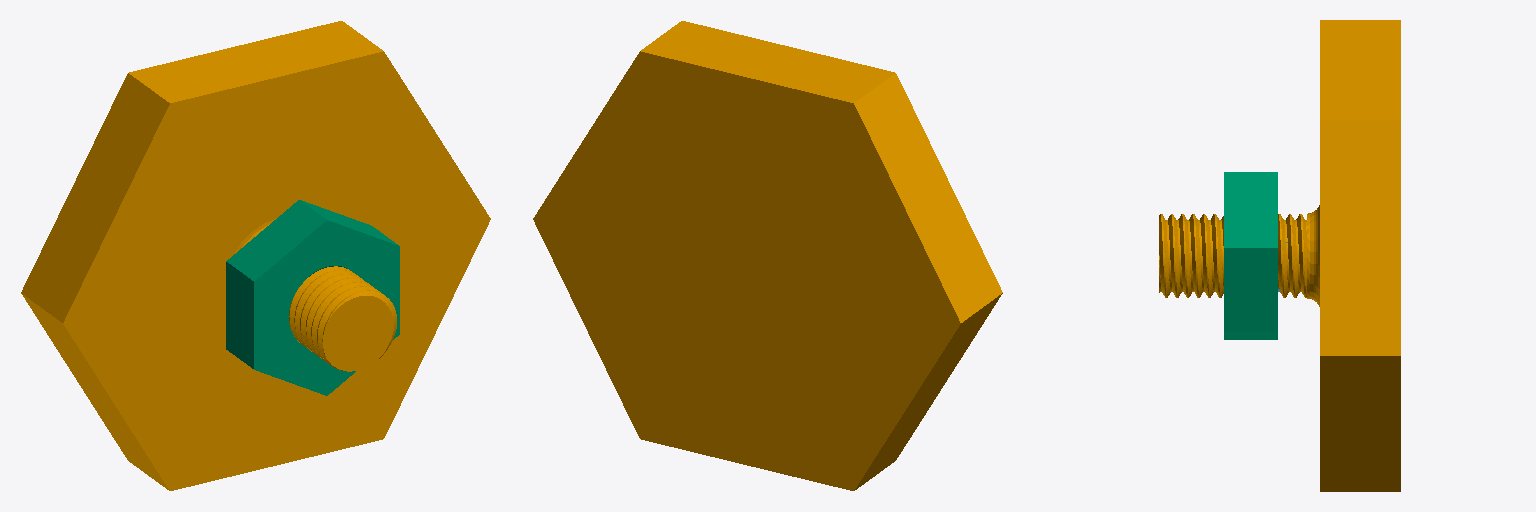
URDF robot description (M14):
<?xml version='1.0' encoding='utf-8'?>
<robot name="M14">
  <joint name="PrismaticJoint" type="prismatic">
    <origin xyz="0. 0. 0." rpy="1.5707964 0. 0. " />
    <parent link="eixo_rot_porca" />
    <child link="eixo_trans_porca" />
    <axis xyz="0. 0. 1." />
    <limit lower="-0.005" upper="0.012" effort="100.0" velocity="1.0" />
  </joint>
  <joint name="RevoluteJoint" type="continuous">
    <origin xyz="0. 0. 0." rpy="0. 0. 0." />
    <parent link="World" />
    <child link="eixo_rot_porca" />
    <axis xyz="0. 0. 1." />
  </joint>
  <link name="World">
    <inertial><origin xyz="0.000000 0.000000 0.022500" rpy="0 0 0" /><mass value="0.3025" /><inertia ixx="0.000197776" ixy="0" ixz="0" iyy="0.000246687" iyz="0" izz="0.000342376" /></inertial><visual>
      <origin xyz="0. 0.0228865 0. " rpy="1.5707964 0. 0. " />
      <geometry>
        <mesh filename="meshes/Base_Corpo1.obj" scale="1. 1. 1." />
      </geometry>
    </visual>
    <collision>
      <origin xyz="0. 0.0228865 0. " rpy="1.5707964 0. 0. " />
      <geometry>
        <mesh filename="meshes/Base_Corpo1.obj" scale="1. 1. 1." />
      </geometry>
    </collision>
  </link>
  <link name="eixo_rot_porca">
    <inertial><origin xyz="0.000000 0.000000 0.000000" rpy="0 0 0" /><mass value="0.0050" /><inertia ixx="1e-06" ixy="0" ixz="0" iyy="1e-06" iyz="0" izz="1e-06" /></inertial><visual>
      <origin xyz="0. 0. 0." rpy="0. 0. 0." />
      <geometry>
        <mesh filename="meshes/Cylinder.obj" scale="1. 1. 1." />
      </geometry>
    </visual>
    <collision>
      <origin xyz="0. 0. 0." rpy="0. 0. 0." />
      <geometry>
        <mesh filename="meshes/Cylinder.obj" scale="1. 1. 1." />
      </geometry>
    </collision>
  </link>
  <link name="eixo_trans_porca">
    <inertial><origin xyz="0.000000 0.000000 0.005000" rpy="0 0 0" /><mass value="0.0104" /><inertia ixx="1.12583e-06" ixy="0" ixz="0" iyy="1e-06" iyz="0" izz="1.81865e-06" /></inertial><visual>
      <origin xyz="0. 0. 0." rpy="0. 0. 0." />
      <geometry>
        <mesh filename="meshes/Porca_Corpo1.obj" scale="1. 1. 1." />
      </geometry>
    </visual>
    <collision>
      <origin xyz="0. 0. 0." rpy="0. 0. 0." />
      <geometry>
        <mesh filename="meshes/Porca_Corpo1.obj" scale="1. 1. 1." />
      </geometry>
    </collision>
  </link>
</robot>

--- Facts derived from the render (not from the file) ---
The picture shows the robot from 3 angles, left to right: view 1: azimuth 30°, elevation 25°; view 2: azimuth 150°, elevation 25°; view 3: azimuth 270°, elevation 25°; orthographic projection.
Robot: M14 — 3 links, 2 joints (1 continuous, 1 prismatic); root link World; default pose: all joints at 0.
Visible links, largest first — view 1: World, eixo_trans_porca; view 2: World; view 3: World, eixo_trans_porca.
Boxes of the visible links, <box> form: World: <box>21,21,490,490</box>; eixo_trans_porca: <box>226,200,399,395</box>; World: <box>533,21,1002,490</box>; World: <box>1159,20,1400,491</box>; eixo_trans_porca: <box>1224,172,1277,339</box>.
Size in the robot's own frame: 0.0881 by 0.045 by 0.0763 metres.
3 mesh visuals loaded from 3 distinct referenced files (3 OBJ).
